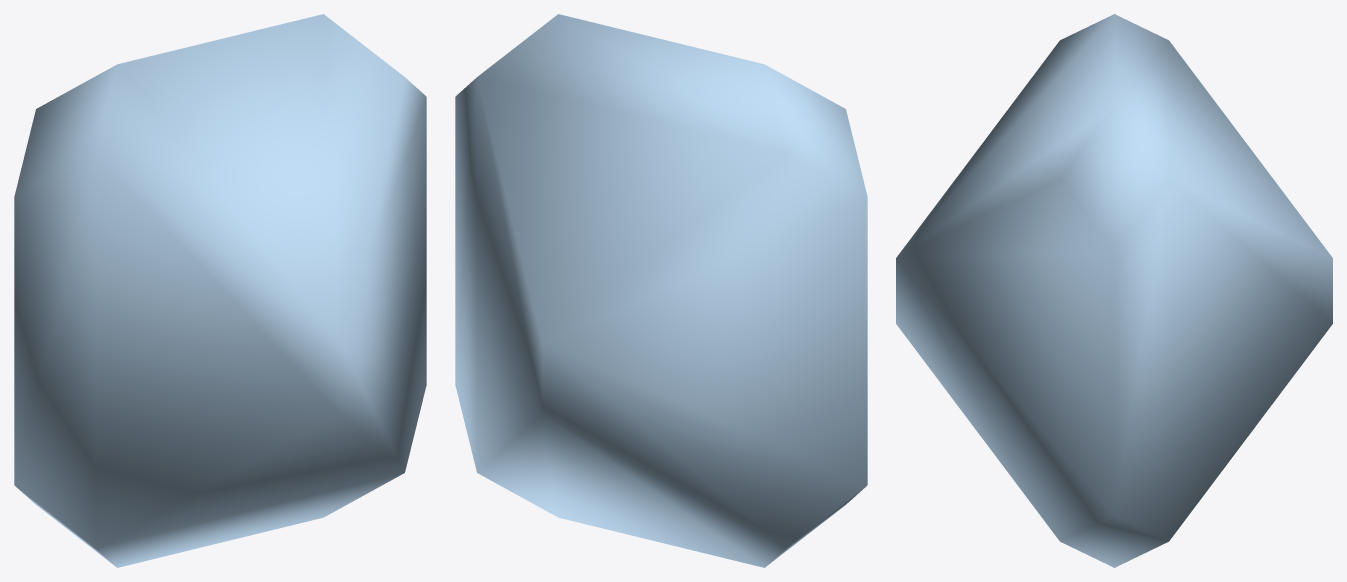
File: pearl.glb
3 renders of one model, left to right at view 1: azimuth 30°, elevation 25°; view 2: azimuth 150°, elevation 25°; view 3: azimuth 270°, elevation 25°, orthographic. The views are drawn at different scales.
Parts seen in each view (by area): view 1: pearl; view 2: pearl; view 3: pearl.
Part boxes in pixels (<box>): pearl: <box>14,14,426,567</box>; pearl: <box>455,14,867,567</box>; pearl: <box>896,14,1332,567</box>.
Size of the model in its own units: 1.7 by 1.98 by 1.7.
